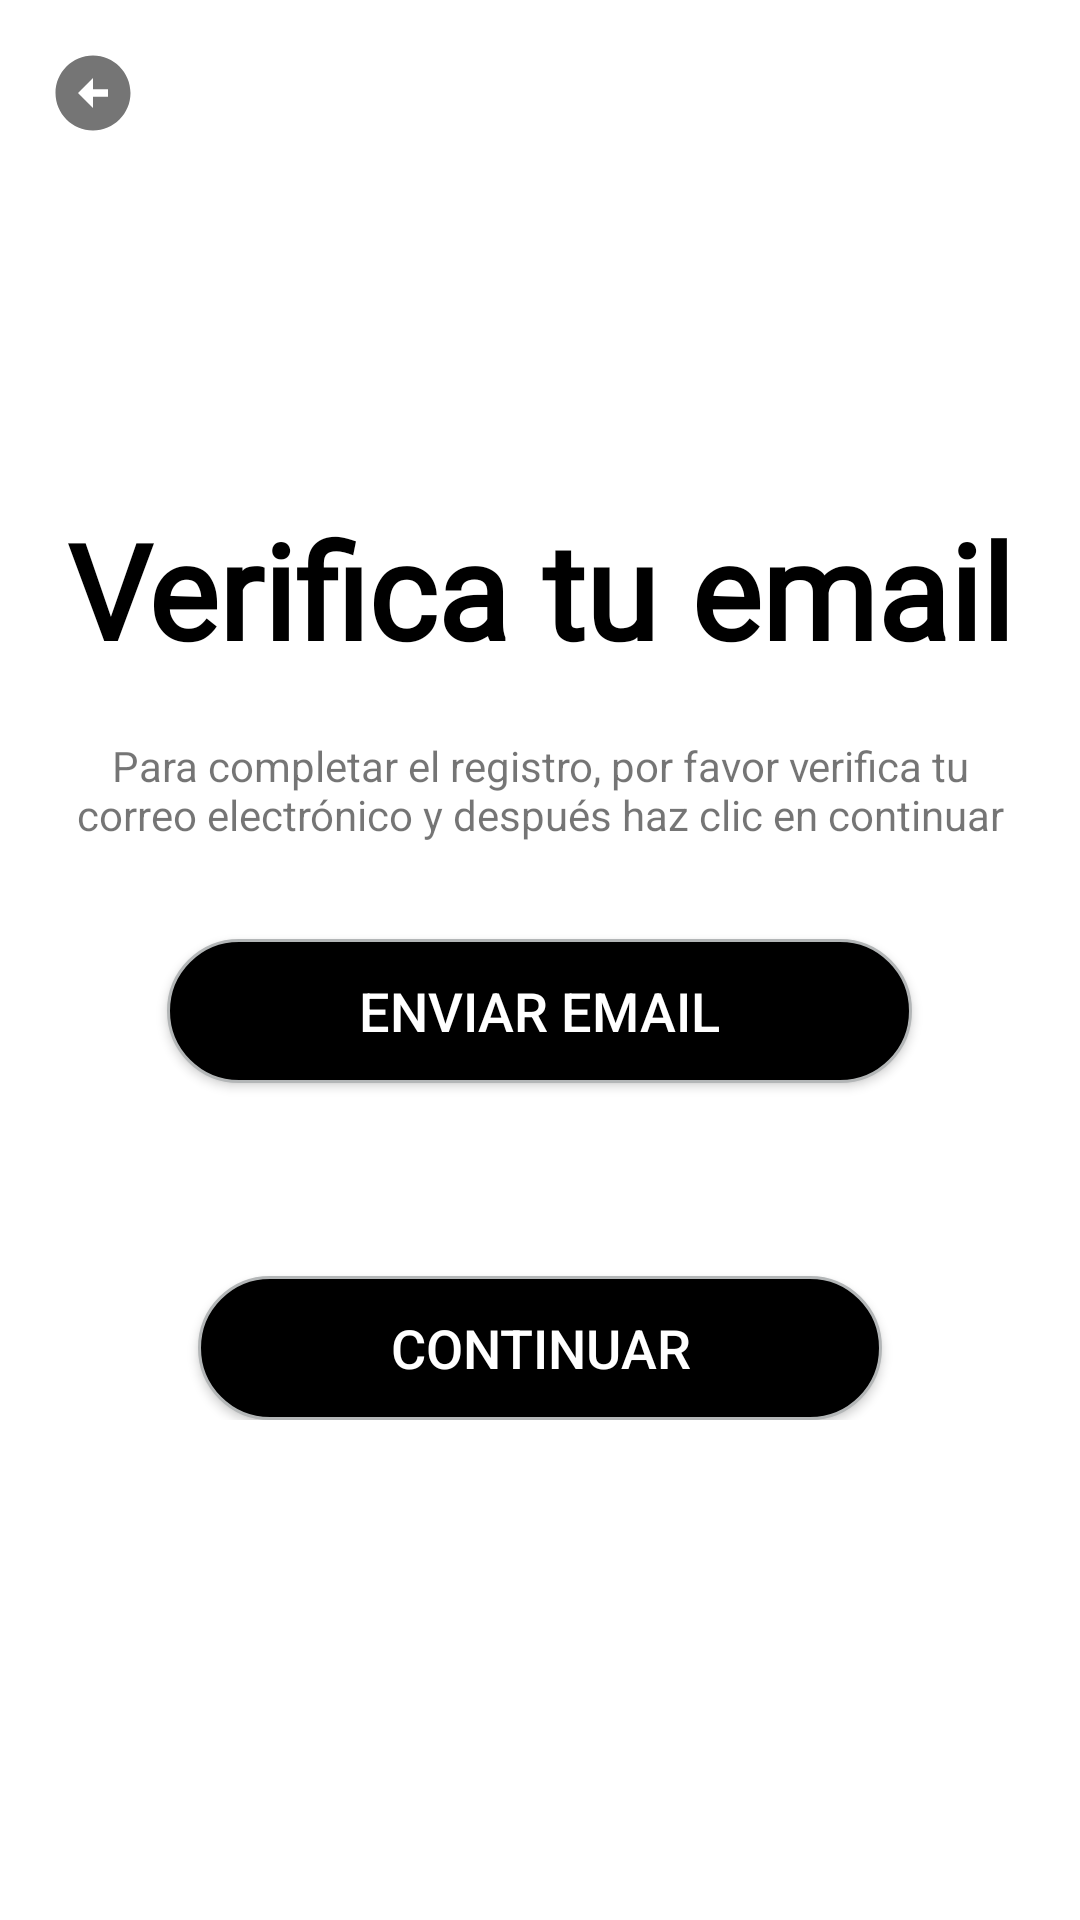

Locate icon controls on the screen. Image size 1080px x 1920px, boxes as rect(x1, y1, x2, y2).
back: rect(55, 55, 131, 131)
